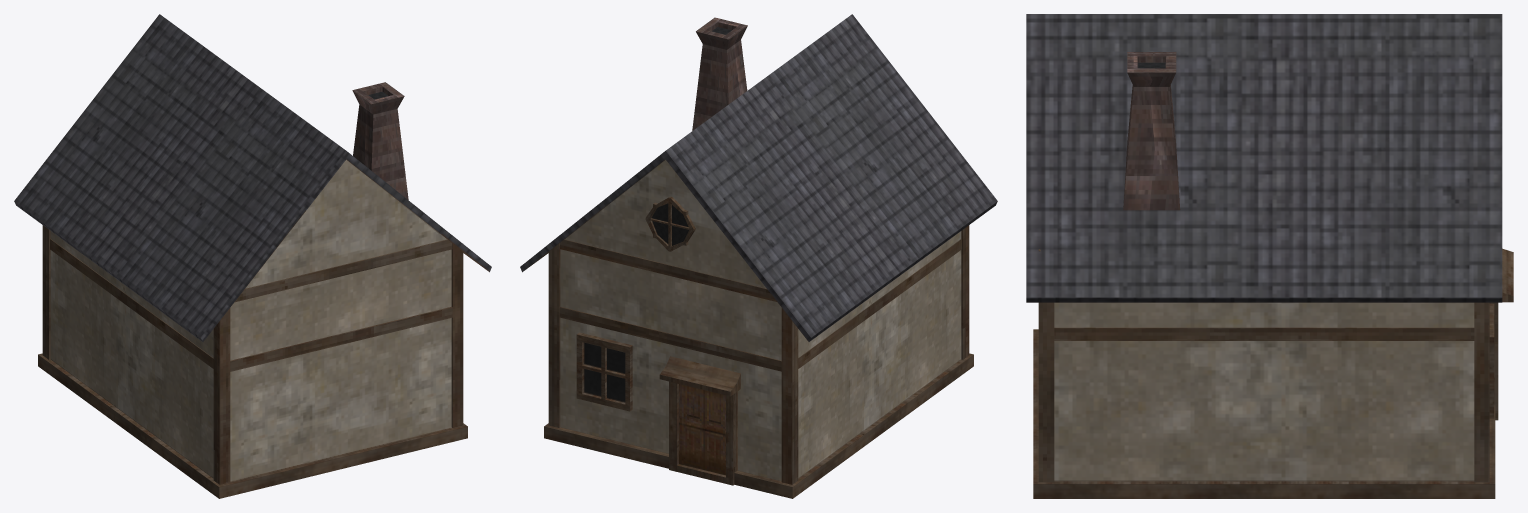
File: House.fbx
The picture shows the model from 3 angles, left to right: view 1: azimuth 30°, elevation 25°; view 2: azimuth 150°, elevation 25°; view 3: azimuth 270°, elevation 25°; orthographic projection. The views are drawn at different scales.
Visible parts, largest first — view 1: House, Wood Beams.002, Chimney; view 2: House, Wood Beams.002, Door, Chimney, Square Window, Circle Window; view 3: House, Wood Beams.002, Chimney, Door, Square Window.
Boxes of the visible parts, x1,y1,x2,y2 form: House: (14, 14, 491, 498); Wood Beams.002: (42, 225, 463, 484); Chimney: (352, 82, 408, 199); House: (520, 14, 997, 498); Wood Beams.002: (548, 225, 969, 484); Door: (659, 356, 740, 485); Chimney: (692, 17, 747, 130); Square Window: (576, 332, 632, 411); Circle Window: (645, 196, 695, 251); House: (1026, 14, 1502, 498); Wood Beams.002: (1038, 249, 1489, 482); Chimney: (1123, 52, 1180, 210); Door: (1489, 248, 1513, 420); Square Window: (1489, 303, 1494, 418).
Bounding box in the file's own units: 179 × 189 × 203.
Materials: 6 (6 with a texture image).
